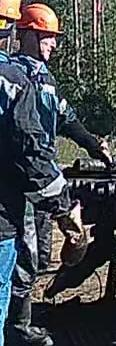gloves: (50, 198, 90, 268), (86, 135, 114, 169)
helmet: (14, 2, 64, 34), (0, 0, 22, 19)
vest: (1, 56, 60, 190)
